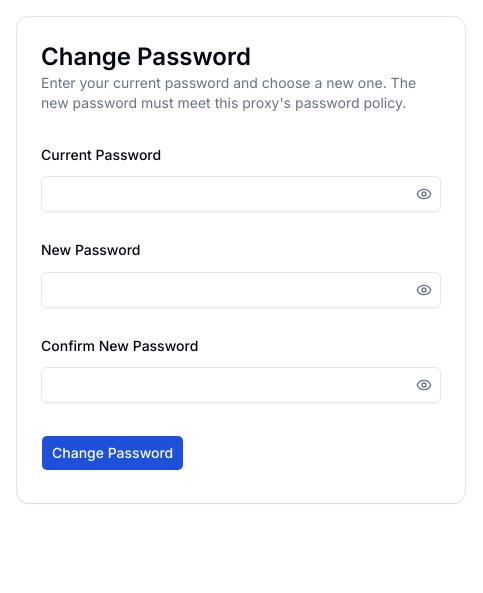
Test: ChangePasswordForm › shows the proxy's rejection message unwrapped
Type "wrong-password" into the password field labelled "Current Password" at (227, 194), box [42, 176, 412, 212]
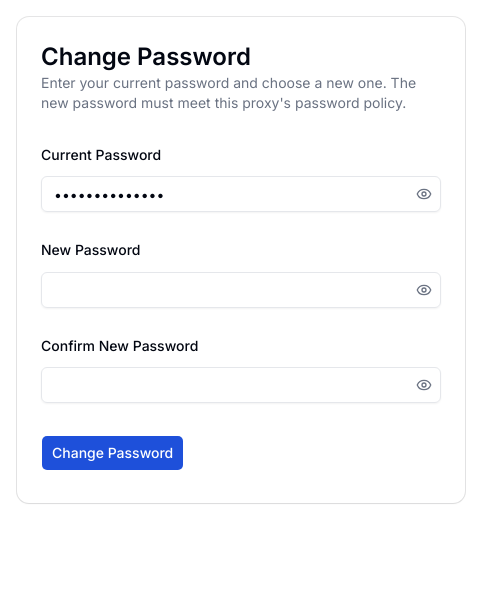
Type "NewP@ssw0rd-2026" into the password field labelled "New Password" at (227, 290), box [42, 272, 412, 308]
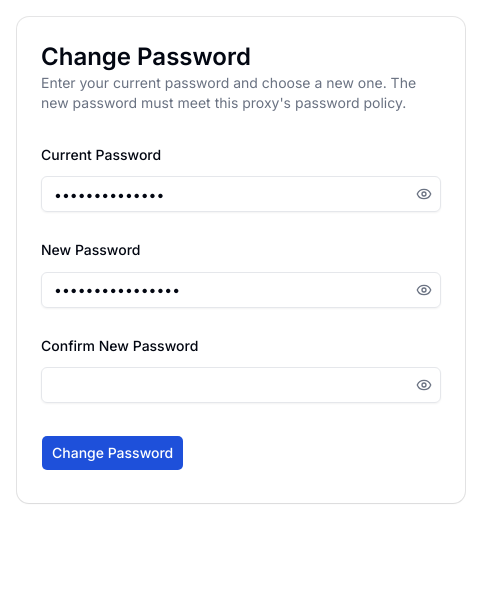
Type "NewP@ssw0rd-2026" into the password field labelled "Confirm New Password" at (227, 385), box [42, 367, 412, 403]
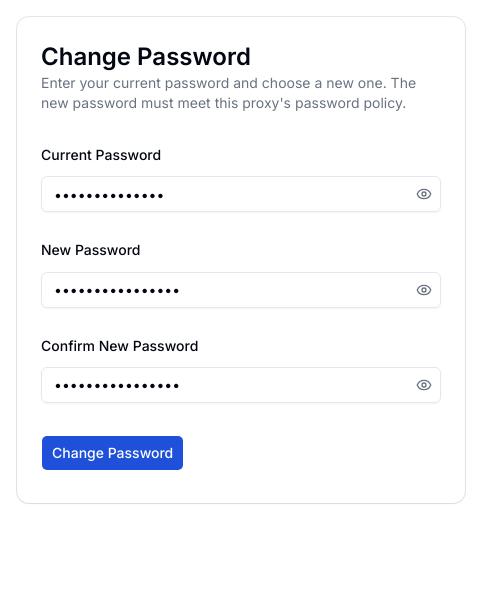
Click the button "Change Password" at (113, 453), box [41, 435, 184, 471]
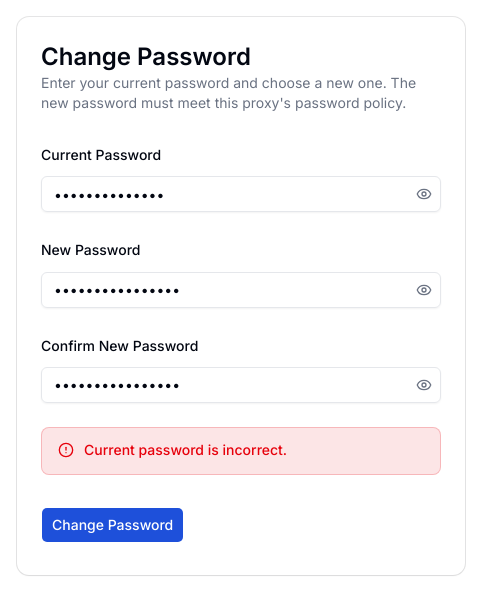
Expected: the text "Current password is incorrect." is shown, [84, 441, 287, 458]
